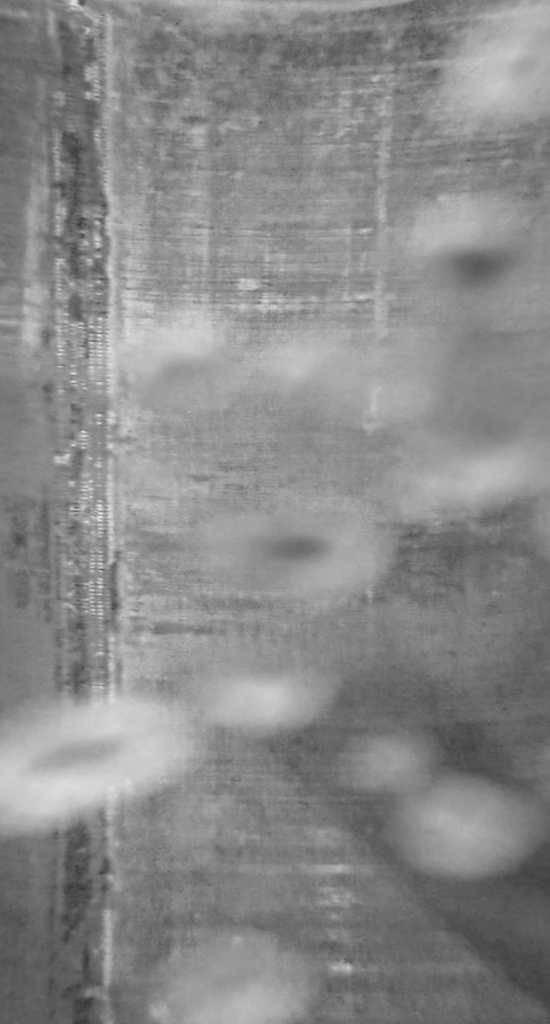splice: (36, 1, 133, 1021)
